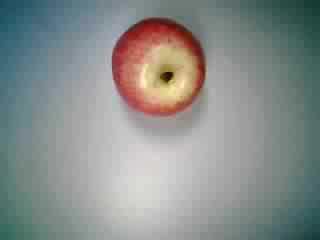apple: (101, 15, 208, 119)
